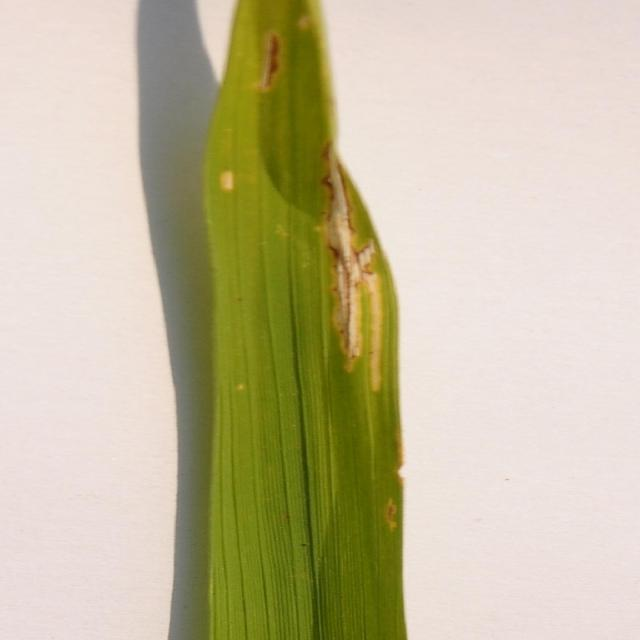Bacterial_Leaf_Blight: (321, 142, 417, 532), (257, 21, 289, 138)
